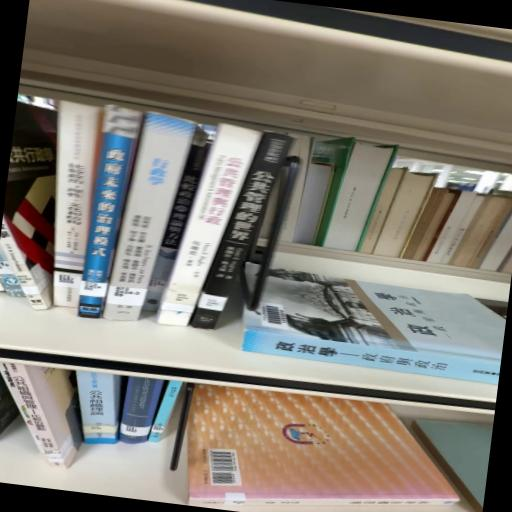flat: (187, 384, 458, 509), (242, 268, 506, 385)
